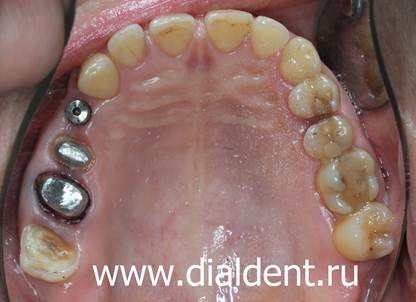UL1BC_decay: (284, 74, 337, 122)
UL1M_decay: (317, 149, 379, 214)
UL2BC_decay: (300, 113, 353, 158)
UL2M_decay: (333, 203, 394, 263)
ULCI_decay: (209, 9, 251, 56)
ULC_healthy: (272, 37, 320, 87)
ULLI_healthy: (249, 16, 286, 66)
UR2M_decay: (18, 227, 81, 278)
URCI_decay: (149, 9, 197, 59)
URC_healthy: (80, 54, 125, 99)
URLI_decay: (107, 23, 149, 69)
